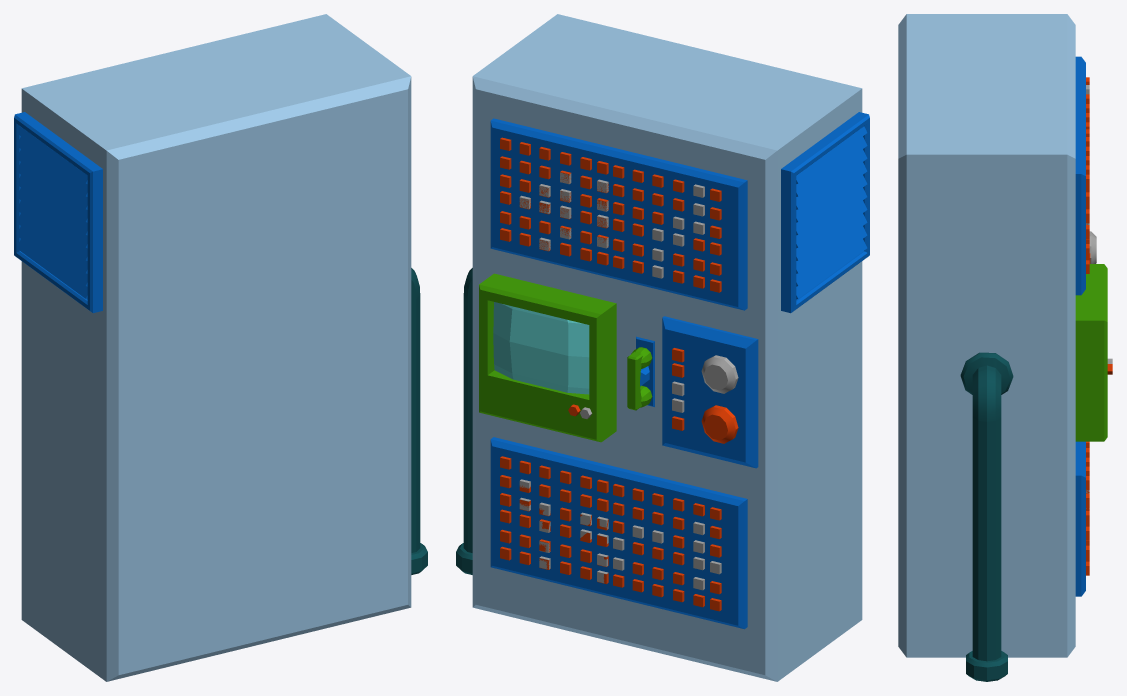
Rendered from Console_2.fbx.
3 renders of one model, left to right at view 1: azimuth 30°, elevation 25°; view 2: azimuth 150°, elevation 25°; view 3: azimuth 270°, elevation 25°, orthographic. The views are drawn at different scales.
Parts seen in each view (by area): view 1: Console_2; view 2: Console_2; view 3: Console_2.
Part boxes in pixels (x1,y1,x2,y2): Console_2: (14, 14, 427, 681); Console_2: (456, 14, 869, 681); Console_2: (898, 14, 1112, 681).
Bounding box in the file's own units: 3.06 × 4.15 × 1.6.
